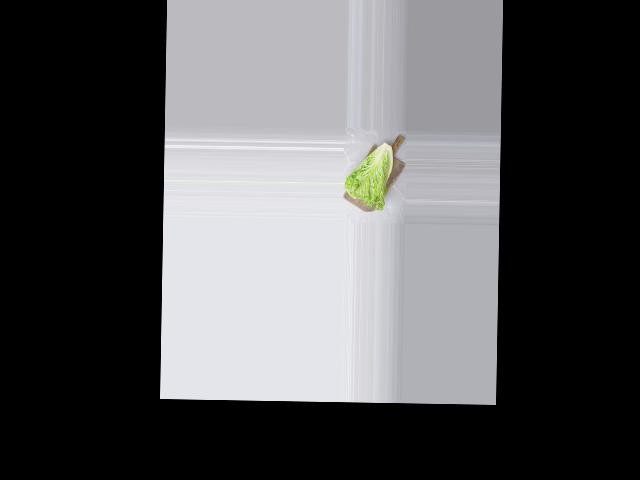lettuce: (344, 139, 400, 210)
